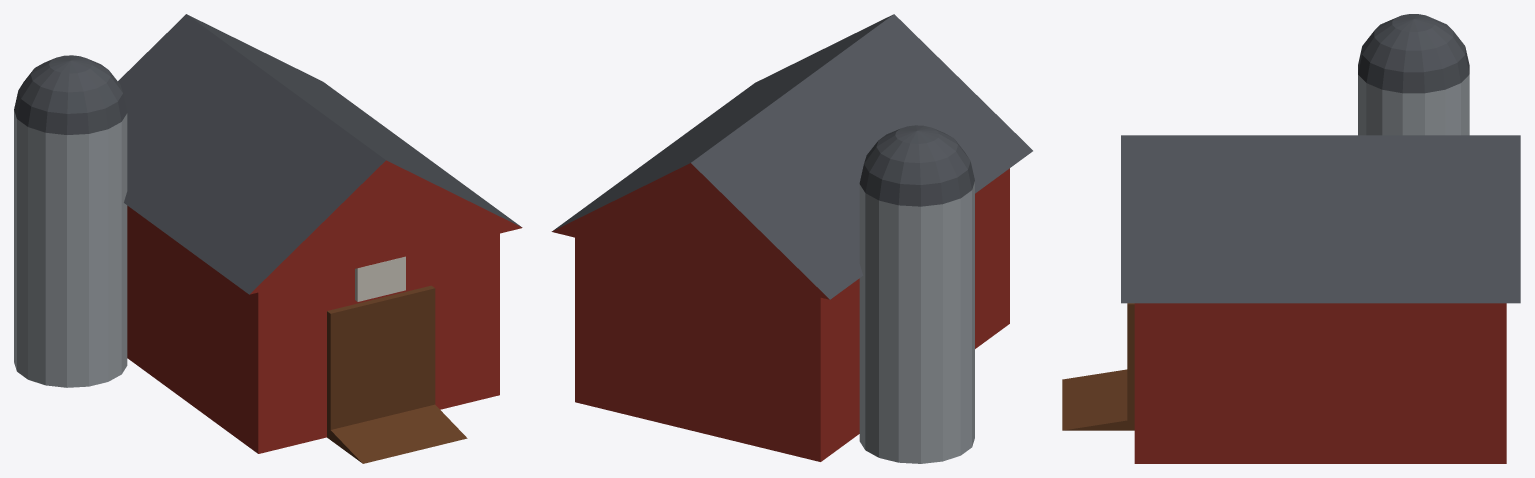
File: barn.glb
3 views of the same model, side by side, from view 1: azimuth 30°, elevation 25°; view 2: azimuth 150°, elevation 25°; view 3: azimuth 270°, elevation 25° (orthographic).
Parts seen in each view (by area): view 1: roof, walls, silo, door, silo_cap, ramp, loft_window; view 2: roof, walls, silo, silo_cap; view 3: roof, walls, silo_cap, silo, ramp, door.
Part boxes in pixels (x1,y1,x2,y2): roof: (118, 14, 522, 294); walls: (127, 205, 499, 453); silo: (14, 110, 127, 387); door: (327, 285, 435, 439); silo_cap: (14, 55, 127, 134); ramp: (330, 404, 467, 463); loft_window: (355, 256, 405, 301); roof: (551, 14, 1032, 299); walls: (575, 168, 1009, 461); silo: (859, 181, 974, 463); silo_cap: (859, 125, 974, 206); roof: (1121, 135, 1520, 303); walls: (1134, 303, 1506, 463); silo_cap: (1358, 14, 1469, 93); silo: (1358, 74, 1469, 135); ramp: (1062, 369, 1127, 430); door: (1127, 303, 1134, 430).
Bounding box in the file's own units: 4.4 × 3.6 × 4.93.
